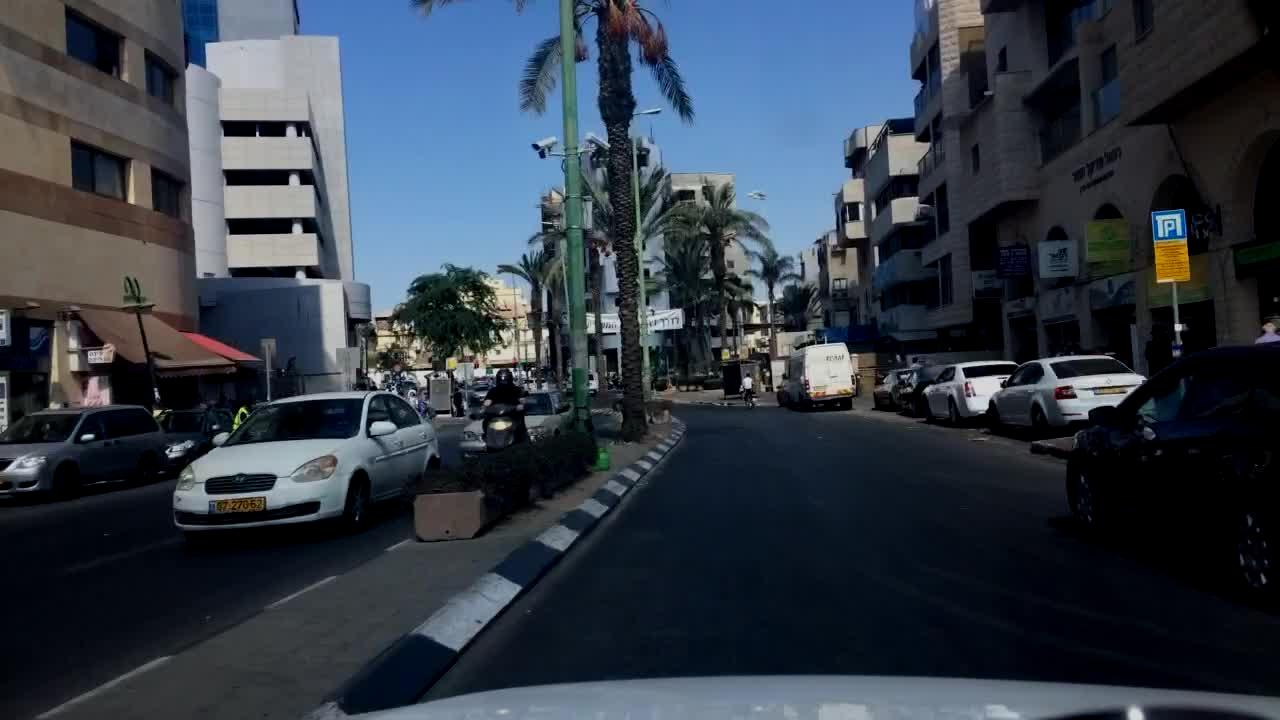Hyundai: (228, 471, 253, 487)
